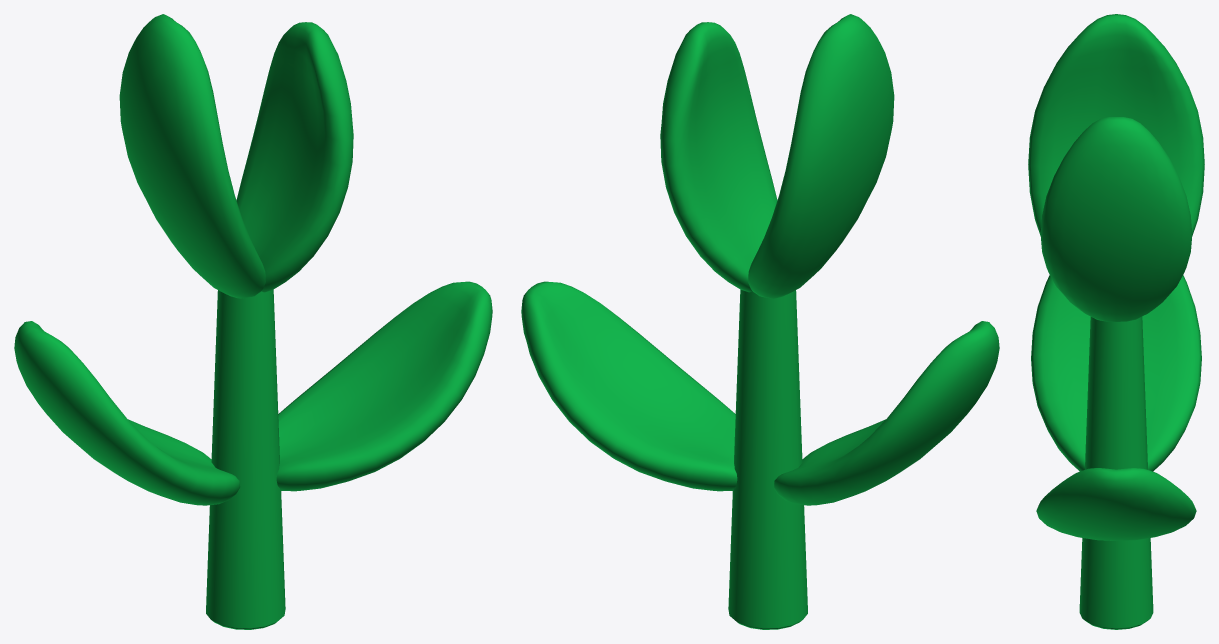
Rendered from Farm_12_Sprout_2.glb.
3 renders of one model, left to right at view 1: azimuth 30°, elevation 25°; view 2: azimuth 150°, elevation 25°; view 3: azimuth 270°, elevation 25°, orthographic. The views are drawn at different scales.
Parts seen in each view (by area): view 1: Farm_12_Sprout_2; view 2: Farm_12_Sprout_2; view 3: Farm_12_Sprout_2.
Part boxes in pixels (<box>): Farm_12_Sprout_2: <box>14,14,492,629</box>; Farm_12_Sprout_2: <box>521,14,999,629</box>; Farm_12_Sprout_2: <box>1028,14,1204,629</box>.
Size of the model in its own units: 0.2893 by 0.3659 by 0.1036.
Materials: 1 (1 with a texture image).
